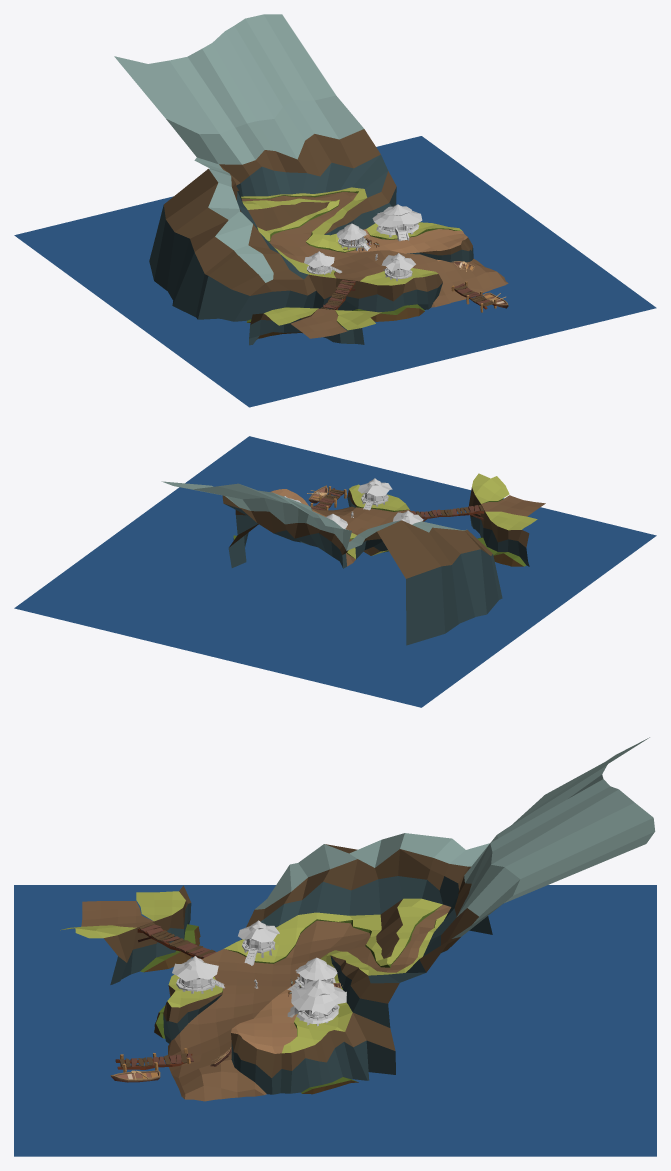
Rendered from mapa2fbx.fbx.
The picture shows the model from 3 angles, top to bottom: view 1: azimuth 30°, elevation 25°; view 2: azimuth 150°, elevation 25°; view 3: azimuth 270°, elevation 25°; orthographic projection. The views are drawn at different scales.
Visible parts, largest first — view 1: mapa, woda, Domek_3, DOMEK_2, DOMEK_STOK.001; view 2: woda, mapa, DOMEK_2, most, most_2; view 3: woda, mapa, Domek_3, DOMEK_2, DOMEK_2.001, most, most_2, DOMEK_STOK.001.
Part boxes in pixels (x1,y1,x2,y2): mapa: (114, 14, 508, 345); woda: (14, 136, 656, 407); Domek_3: (372, 204, 422, 241); DOMEK_2: (381, 253, 415, 281); DOMEK_STOK.001: (336, 223, 370, 250); woda: (14, 436, 656, 707); mapa: (161, 473, 545, 645); DOMEK_2: (358, 478, 392, 510); most: (411, 505, 484, 521); most_2: (310, 486, 346, 510); woda: (14, 885, 656, 1156); mapa: (60, 737, 655, 1101); Domek_3: (287, 979, 346, 1026); DOMEK_2: (172, 956, 224, 993); DOMEK_2.001: (238, 920, 279, 965); most: (137, 922, 216, 959); most_2: (115, 1048, 193, 1072); DOMEK_STOK.001: (287, 957, 337, 991).
Size of the model in its own units: 71121 by 28544 by 71121.
